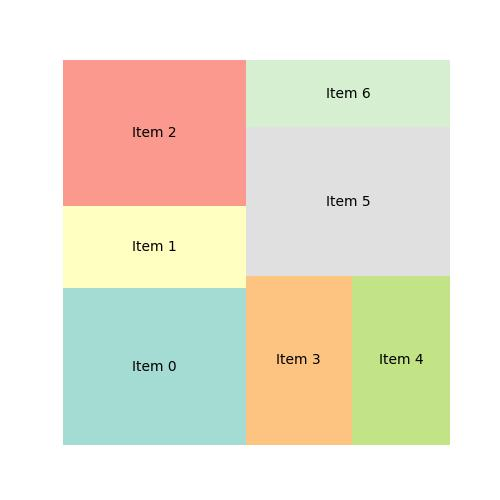rectangle: (245, 124, 450, 275), (62, 286, 246, 445), (61, 58, 245, 207), (248, 274, 352, 446), (352, 274, 451, 446), (59, 208, 246, 289), (245, 58, 450, 128)
